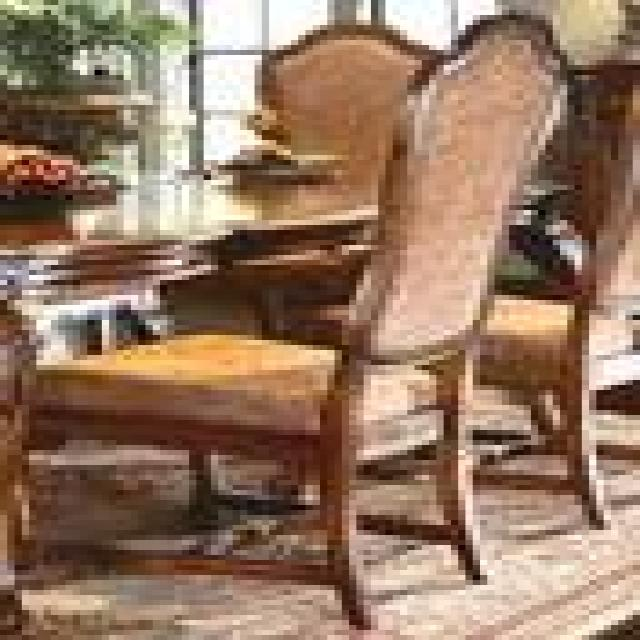chair: (8, 11, 570, 634)
